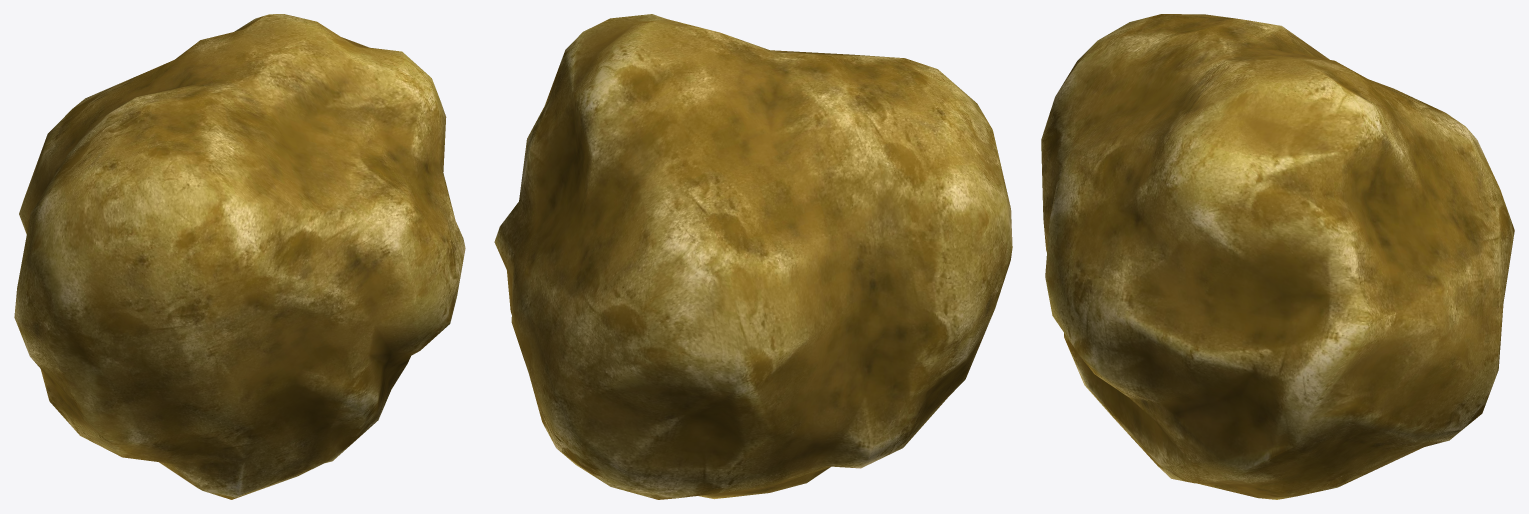
File: gold_nugget.glb
The picture shows the model from 3 angles, left to right: view 1: azimuth 30°, elevation 25°; view 2: azimuth 150°, elevation 25°; view 3: azimuth 270°, elevation 25°; orthographic projection. The views are drawn at different scales.
Parts seen in each view (by area): view 1: Sphere; view 2: Sphere; view 3: Sphere.
Part boxes in pixels (x1,y1,x2,y2): Sphere: (14,14,465,499); Sphere: (494,14,1012,499); Sphere: (1041,14,1514,499).
Size of the model in its own units: 0.1188 by 0.1177 by 0.1123.
Materials: 1 (1 with a texture image).
